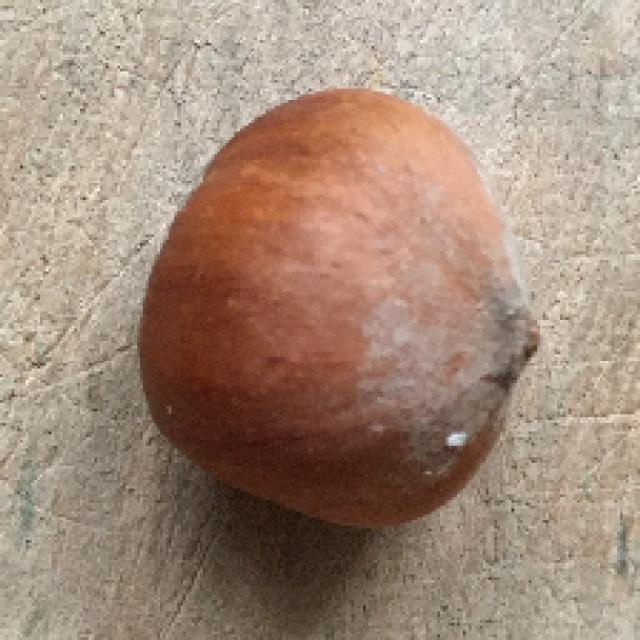qualityHazelnut: (138, 89, 539, 530)
